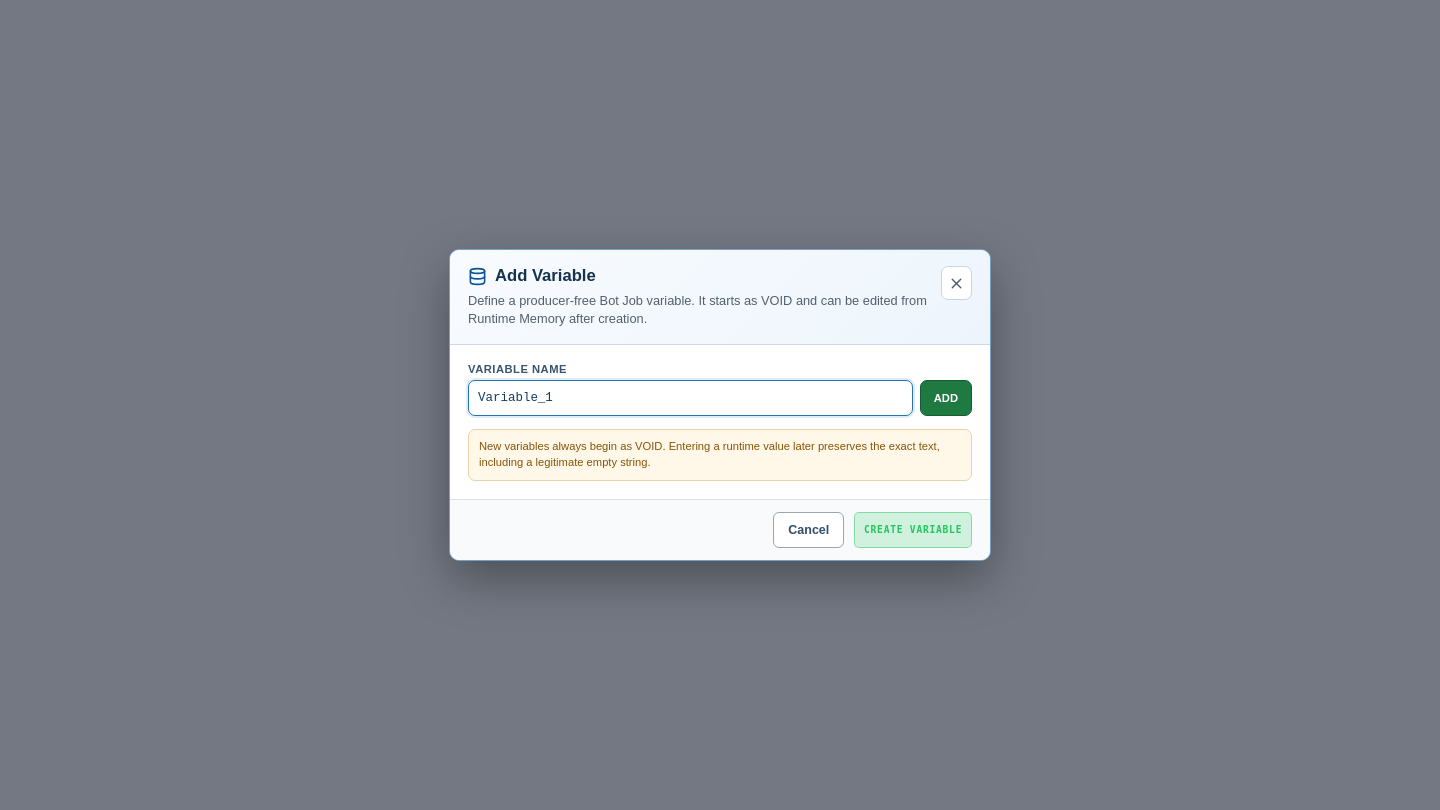
rejects an existing variable name without changing its case
Replace the text in the field labelled "Variable name" with "account value" at (690, 398), box [468,380,913,416]
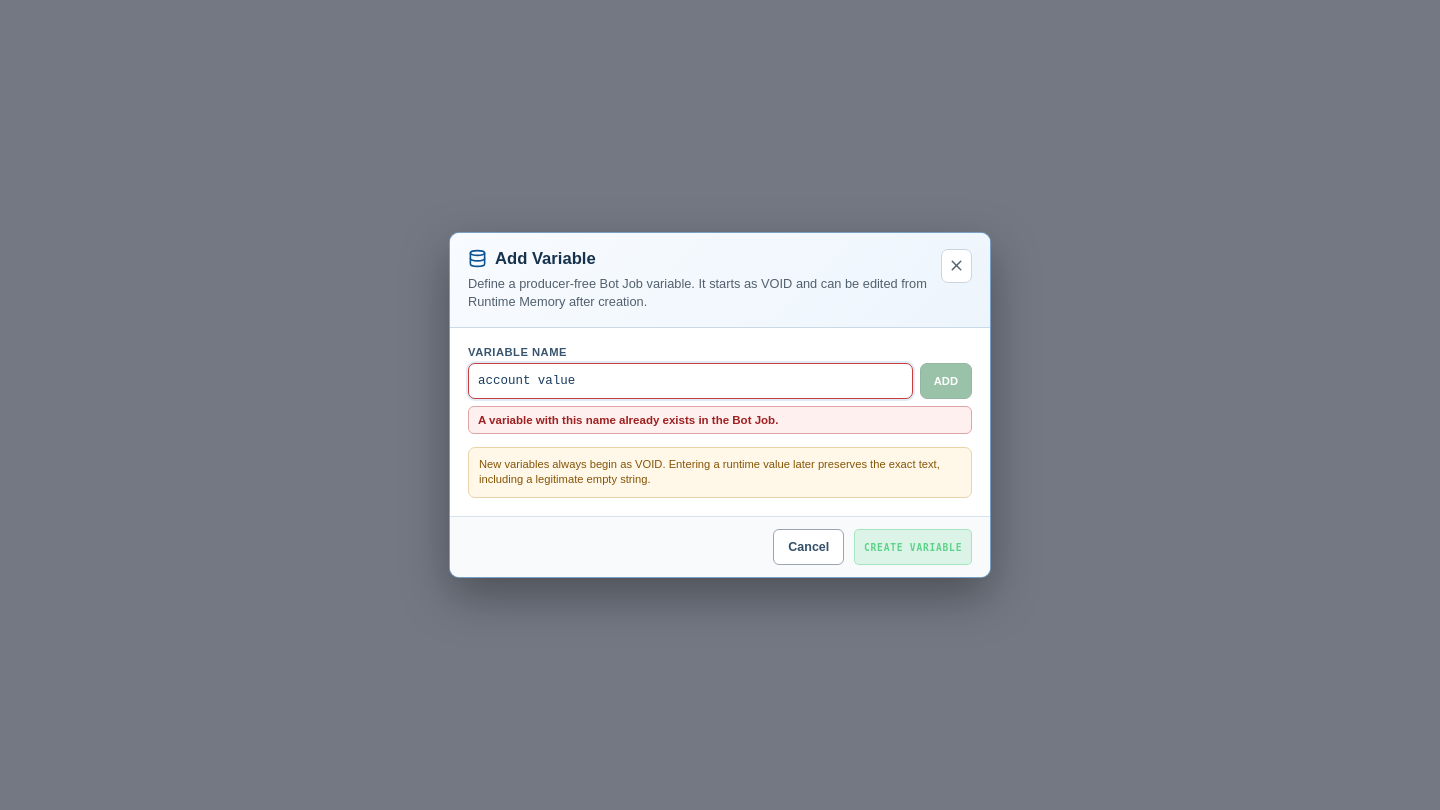
Now the message shows "A variable with this name already exists", box [478,414,778,426]
Now the button "CREATE VARIABLE" is disabled, box [854,529,972,565]
